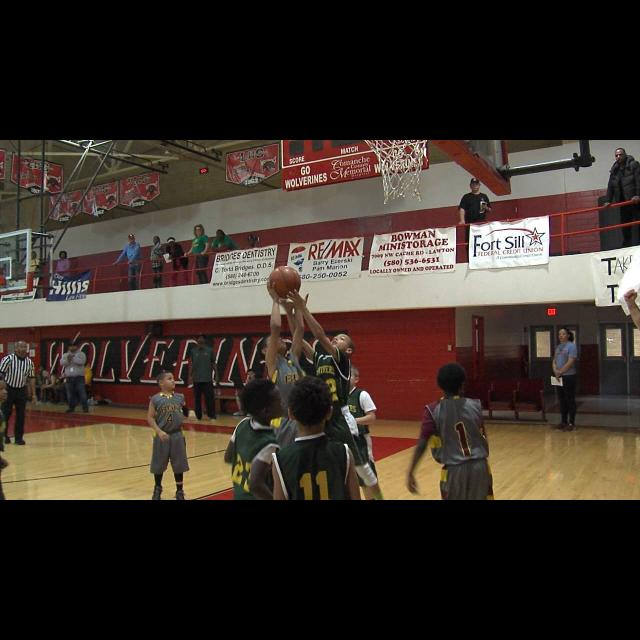head: (286, 378, 334, 430), (240, 378, 288, 420), (436, 362, 466, 396), (257, 334, 287, 362), (329, 333, 355, 355), (158, 374, 176, 391), (346, 369, 360, 385), (15, 340, 29, 356), (558, 328, 572, 342), (615, 148, 627, 164), (471, 180, 482, 192), (197, 333, 207, 345), (247, 370, 257, 380), (67, 342, 77, 352), (216, 230, 224, 242), (196, 226, 204, 237), (168, 238, 176, 248), (70, 342, 78, 352), (248, 236, 256, 246), (153, 236, 161, 244), (128, 236, 136, 244), (43, 370, 51, 378), (61, 251, 67, 259), (31, 251, 37, 259), (39, 366, 45, 374)
person: (0, 340, 38, 446), (550, 327, 584, 433), (456, 178, 494, 268), (188, 330, 222, 424), (53, 352, 99, 408), (60, 341, 90, 415), (210, 228, 244, 286), (111, 233, 143, 293), (184, 223, 212, 289), (234, 369, 266, 421), (163, 236, 189, 292), (144, 236, 166, 290), (53, 250, 73, 300), (23, 250, 41, 302), (244, 234, 262, 280), (41, 370, 61, 406), (31, 365, 47, 401)
